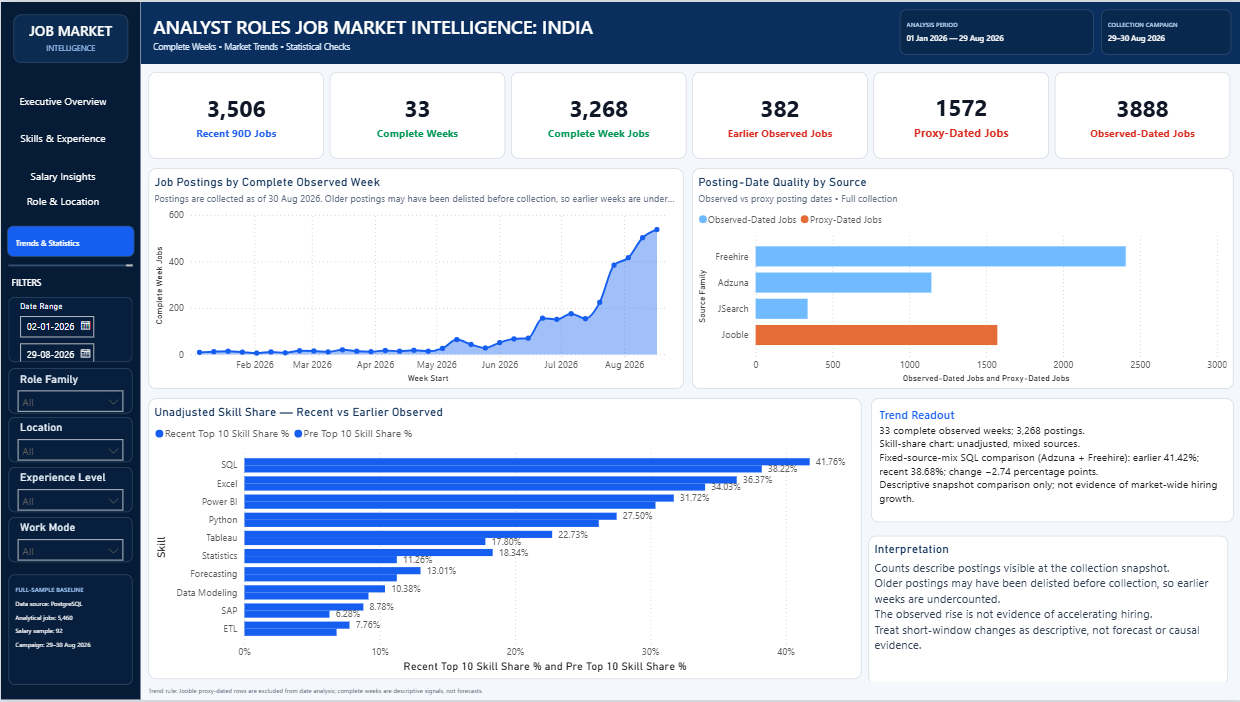

The dashboard page shown, as its layout file describes it:
{"tool":"powerbi","page":{"name":"Trends & Statistical","canvas":[1600,900],"ordinal":4},"visuals":[{"type":"textbox","box":[0,0,180,900],"z":0},{"type":"textbox","box":[16,16,148,62],"z":1000},{"type":"textbox","box":[8,289,164,40],"z":2000},{"type":"textbox","box":[10,338,160,2],"z":3000},{"type":"textbox","box":[10,348,160,28],"z":4000},{"type":"slicer","fields":{"Values":["Jobs.Posted Date"]},"box":[10,380,160,84],"z":5000},{"type":"slicer","fields":{"Values":["Jobs.Role Family"]},"box":[10,472,160,58],"z":6000},{"type":"slicer","fields":{"Values":["Jobs.Specific City"]},"box":[10,536,160,58],"z":7000},{"type":"slicer","fields":{"Values":["Jobs.Experience Band"]},"box":[10,600,160,58],"z":8000},{"type":"slicer","fields":{"Values":["Jobs.Work Mode"]},"box":[10,664,160,58],"z":9000},{"type":"textbox","box":[10,738,160,142],"z":10000},{"type":"textbox","box":[180,0,1420,80],"z":11000},{"type":"textbox","box":[1160,10,250,58],"z":12000},{"type":"textbox","box":[1420,10,168,58],"z":13000},{"type":"lineChart","title":"Job Postings by Complete Observed Week","fields":{"Category":["Jobs.Week Start"],"Y":["Jobs.Complete Week Jobs"]},"box":[190,215,690,285],"z":14000},{"type":"barChart","title":"Posting-Date Quality by Source","fields":{"Category":["Jobs.Source Family"],"Y":["Jobs.Observed-Dated Jobs","Jobs.Proxy-Dated Jobs"]},"box":[892,215,698,285],"z":15000},{"type":"clusteredBarChart","title":"Unadjusted Skill Share — Recent vs Earlier Observed","fields":{"Category":["Skills.Skill"],"Y":["Skills.Recent Top 10 Skill Share %","Skills.Pre Top 10 Skill Share %"]},"box":[190,512,920,362],"z":16000},{"type":"textbox","box":[1122,512,468,160],"z":17000},{"type":"textbox","title":"Interpretation","box":[1120,688,464,192],"z":18000},{"type":"textbox","box":[190,878,1400,18],"z":19000},{"type":"actionButton","box":[0,112,160,32],"z":20000},{"type":"actionButton","box":[0,160,160,32],"z":21000},{"type":"actionButton","box":[0,208,160,32],"z":22000},{"type":"card","fields":{"Values":["Jobs.Recent 90D Jobs"]},"box":[190,90,226,112],"z":23000},{"type":"actionButton","box":[0,240,160,32],"z":24000},{"type":"card","fields":{"Values":["Jobs.Complete Weeks"]},"box":[424,90,226,112],"z":25000},{"type":"card","fields":{"Values":["Jobs.Complete Week Jobs"]},"box":[658,90,226,112],"z":26000},{"type":"card","fields":{"Values":["Jobs.Earlier Observed Jobs"]},"box":[892,90,226,112],"z":27000},{"type":"card","fields":{"Values":["Jobs.Proxy-Dated Jobs"]},"box":[1126,90,226,112],"z":28000},{"type":"card","fields":{"Values":["Jobs.Observed-Dated Jobs"]},"box":[1360,90,226,112],"z":29000}]}

Visuals, with their boxes on the page's 1600x900 design canvas (x1, y1, x2, y2). These are canvas units, not pixel positions in the 1240x702 screenshot, which may show the page scaled, cropped or inside an application window:
textbox: <box>0,0,180,900</box>
textbox: <box>16,16,164,78</box>
textbox: <box>8,289,172,329</box>
textbox: <box>10,338,170,340</box>
textbox: <box>10,348,170,376</box>
slicer - Jobs.Posted Date: <box>10,380,170,464</box>
slicer - Jobs.Role Family: <box>10,472,170,530</box>
slicer - Jobs.Specific City: <box>10,536,170,594</box>
slicer - Jobs.Experience Band: <box>10,600,170,658</box>
slicer - Jobs.Work Mode: <box>10,664,170,722</box>
textbox: <box>10,738,170,880</box>
textbox: <box>180,0,1600,80</box>
textbox: <box>1160,10,1410,68</box>
textbox: <box>1420,10,1588,68</box>
"Job Postings by Complete Observed Week" lineChart: <box>190,215,880,500</box>
"Posting-Date Quality by Source" barChart: <box>892,215,1590,500</box>
"Unadjusted Skill Share — Recent vs Earlier Observed" clusteredBarChart: <box>190,512,1110,874</box>
textbox: <box>1122,512,1590,672</box>
"Interpretation" textbox: <box>1120,688,1584,880</box>
textbox: <box>190,878,1590,896</box>
actionButton: <box>0,112,160,144</box>
actionButton: <box>0,160,160,192</box>
actionButton: <box>0,208,160,240</box>
card - Jobs.Recent 90D Jobs: <box>190,90,416,202</box>
actionButton: <box>0,240,160,272</box>
card - Jobs.Complete Weeks: <box>424,90,650,202</box>
card - Jobs.Complete Week Jobs: <box>658,90,884,202</box>
card - Jobs.Earlier Observed Jobs: <box>892,90,1118,202</box>
card - Jobs.Proxy-Dated Jobs: <box>1126,90,1352,202</box>
card - Jobs.Observed-Dated Jobs: <box>1360,90,1586,202</box>
